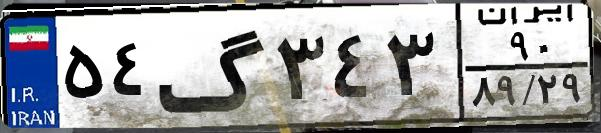0: (537, 27, 568, 80)
2: (535, 70, 560, 125)
3: (270, 28, 330, 110), (385, 28, 445, 110)
4: (330, 28, 385, 110), (110, 28, 156, 98)
5: (57, 26, 110, 100)
8: (470, 70, 495, 125)
9: (560, 70, 590, 125), (508, 27, 537, 80), (495, 70, 520, 125)
گ: (156, 12, 270, 120)
